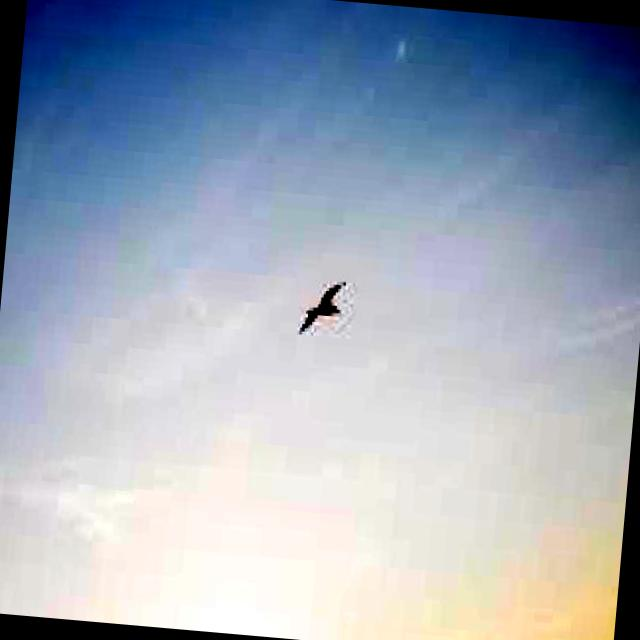bird: (292, 275, 350, 336)
